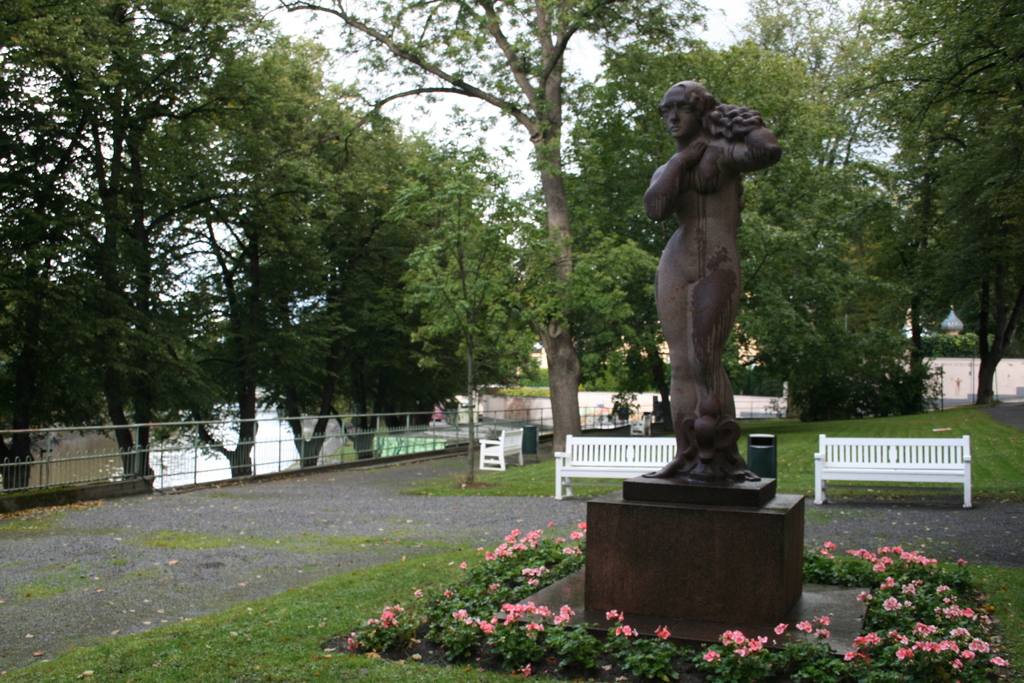Tree: (0, 0, 1021, 500), (251, 0, 744, 462)
